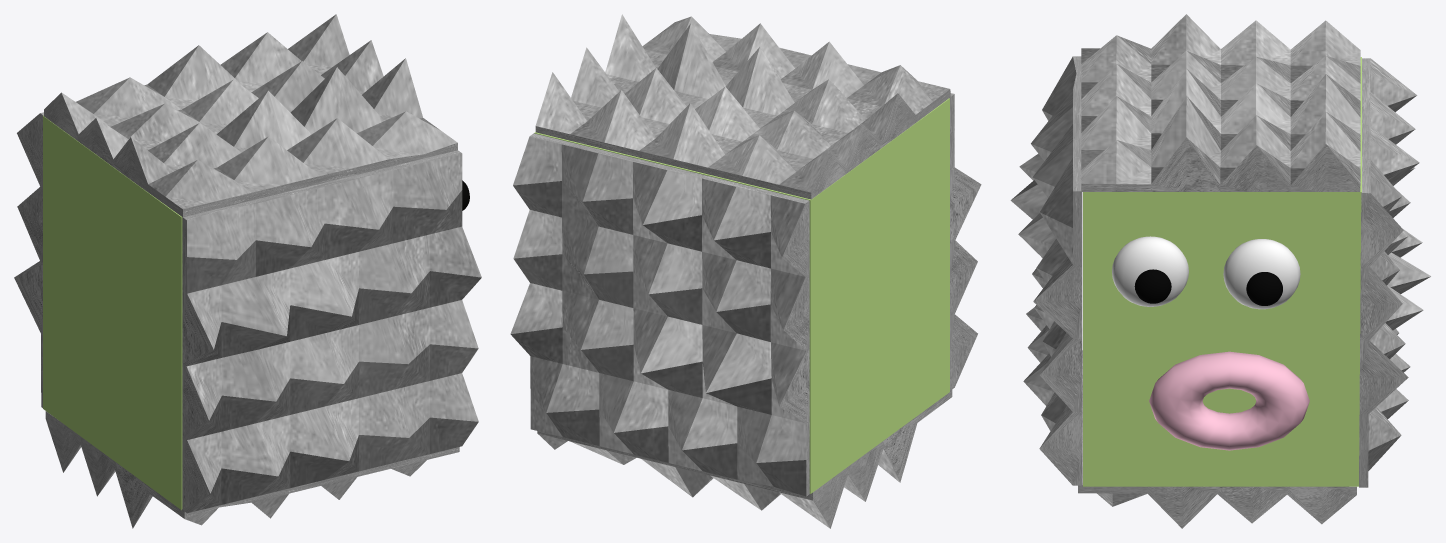
The model's file is Rock1031.fbx.
The picture shows the model from 3 angles, left to right: view 1: azimuth 30°, elevation 25°; view 2: azimuth 150°, elevation 25°; view 3: azimuth 270°, elevation 25°; orthographic projection.
Parts seen in each view (by area): view 1: Rock; view 2: Rock; view 3: Rock.
Part boxes in pixels (box(x1,y1,x2,y2)): Rock: box(14, 14, 481, 528); Rock: box(510, 14, 981, 528); Rock: box(1010, 14, 1430, 528).
Bounding box in the file's own units: 1401 × 1131 × 1274.
